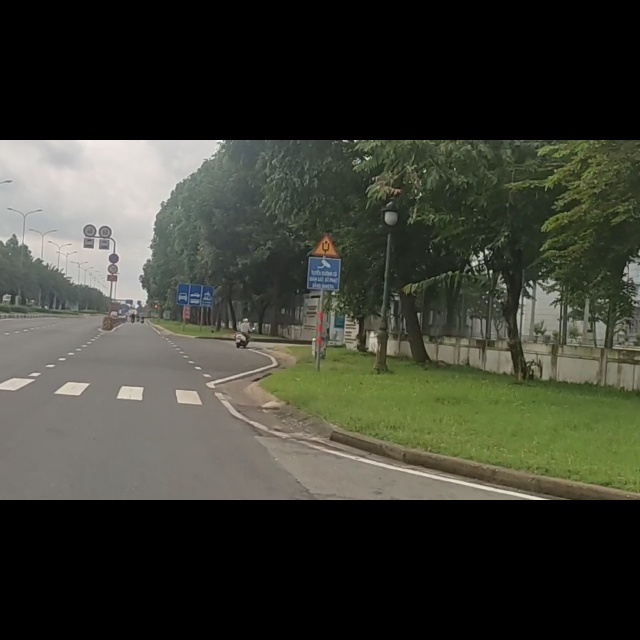bien_nguy_hiem: (309, 162, 342, 209)
